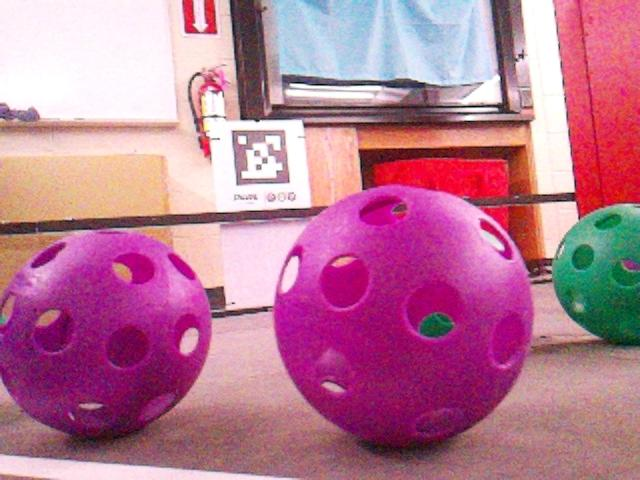Green: (550, 203, 639, 347)
Purple: (273, 187, 532, 444), (0, 230, 213, 438)
